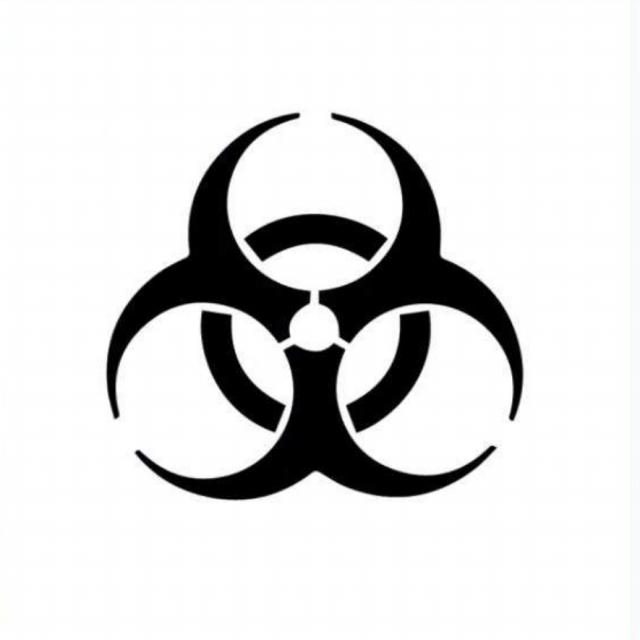Biological risks: (100, 111, 530, 504)
